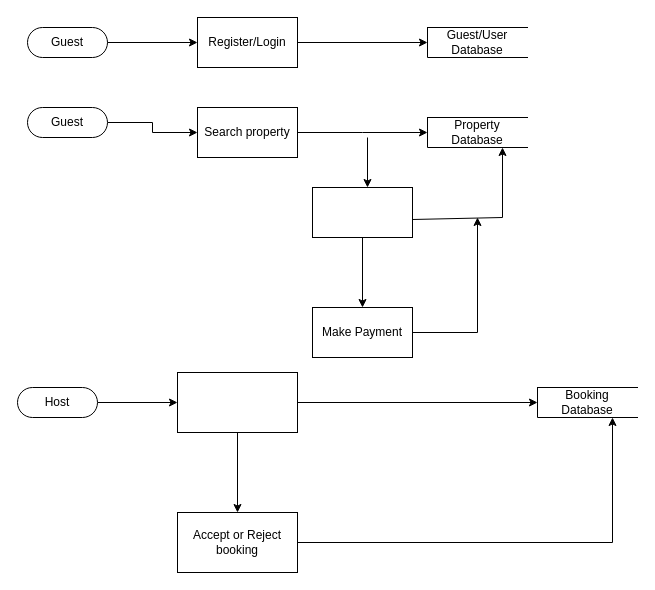
Some shapes in this 655 by 590 pixel diagram are drawn without their labels. Each missing label, with the box of its shape:
Book property: (312, 186, 412, 238)
Confirm Booking and Payment: (176, 372, 298, 432)
